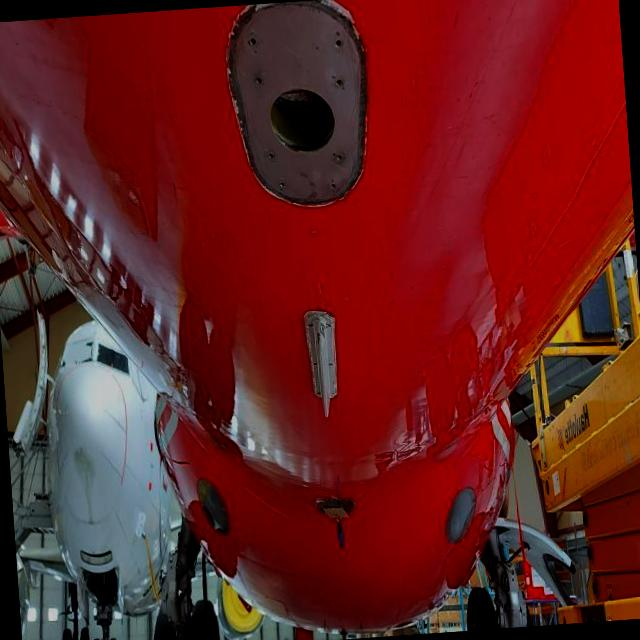Missing Fastener: (333, 147, 346, 165), (333, 32, 344, 52), (253, 72, 265, 90), (266, 146, 277, 164), (334, 74, 346, 90), (247, 34, 258, 50), (278, 177, 287, 194), (328, 178, 336, 194)
